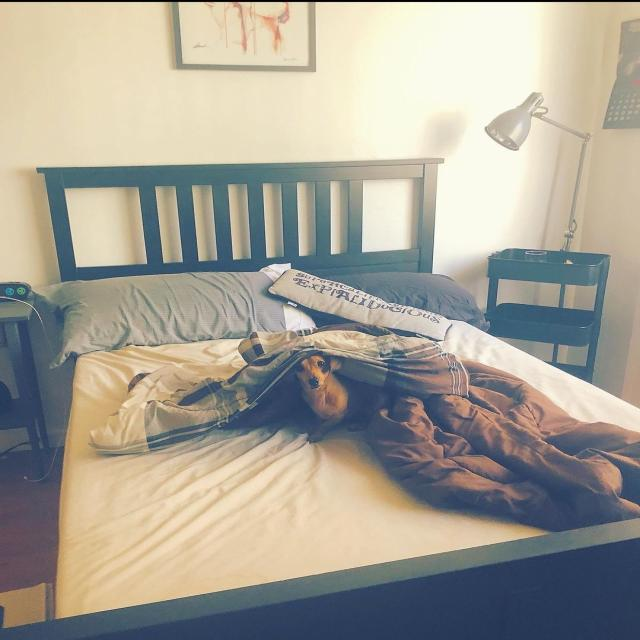bed: (56, 258, 640, 640)
